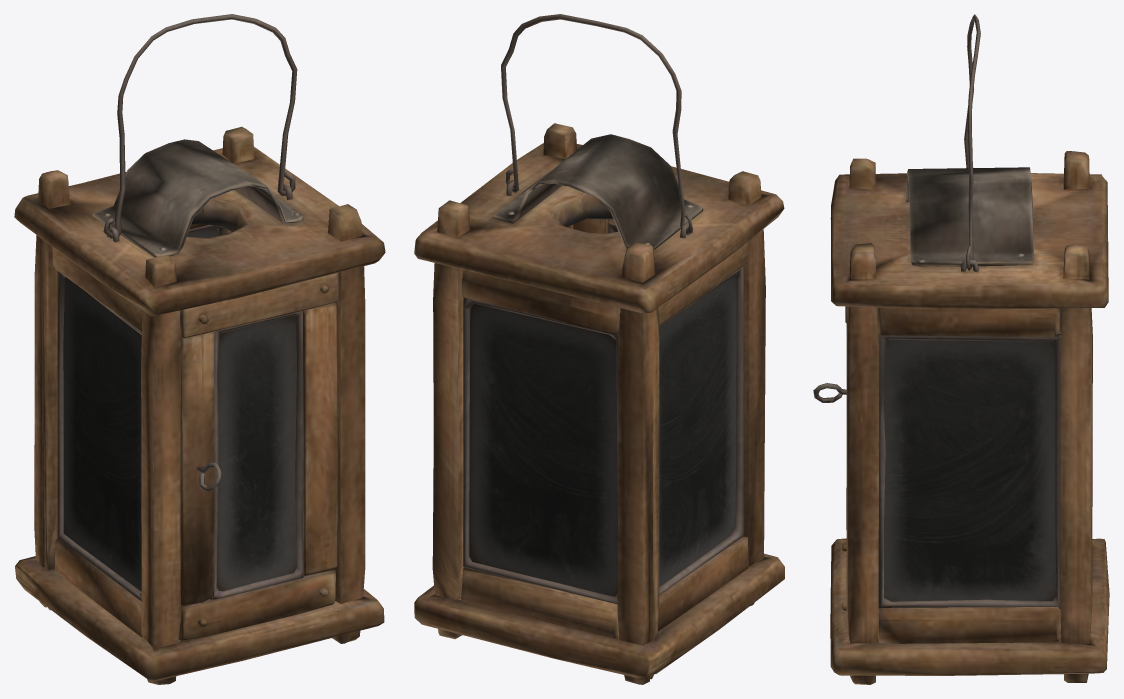
The model's file is lantern.glb.
The picture shows the model from 3 angles, left to right: view 1: azimuth 30°, elevation 25°; view 2: azimuth 150°, elevation 25°; view 3: azimuth 270°, elevation 25°; orthographic projection.
Parts seen in each view (by area): view 1: wooden_lantern_01, wooden_lantern_01_door, wooden_lantern_01_handle; view 2: wooden_lantern_01, wooden_lantern_01_handle, wooden_lantern_01_door; view 3: wooden_lantern_01, wooden_lantern_01_handle, wooden_lantern_01_door.
Part boxes in pixels (box(x1,y1,x2,y2)): wooden_lantern_01: box(14, 126, 385, 684); wooden_lantern_01_door: box(178, 272, 338, 640); wooden_lantern_01_handle: box(103, 14, 297, 238); wooden_lantern_01: box(414, 123, 784, 684); wooden_lantern_01_handle: box(501, 14, 692, 234); wooden_lantern_01_door: box(573, 219, 618, 233); wooden_lantern_01: box(830, 151, 1109, 684); wooden_lantern_01_handle: box(964, 14, 980, 270); wooden_lantern_01_door: box(813, 306, 847, 610).
Size of the model in its own units: 0.221 by 0.5299 by 0.235.
Materials: 2 (2 with a texture image).
